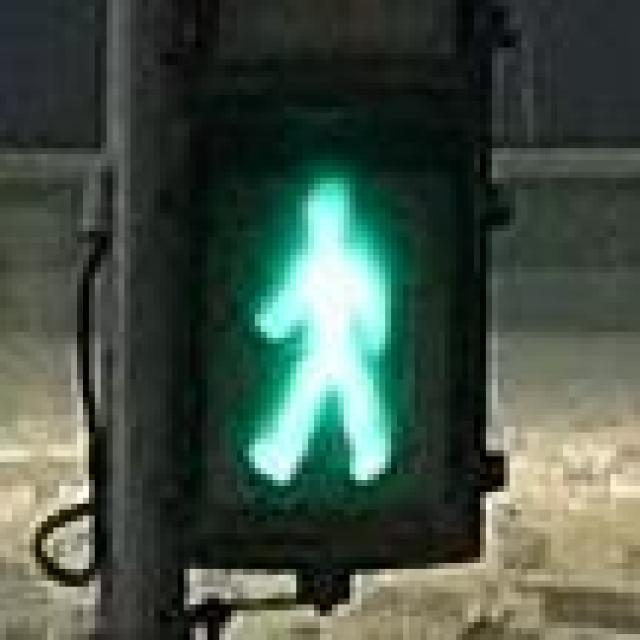geen-crossing: (178, 100, 456, 528)
